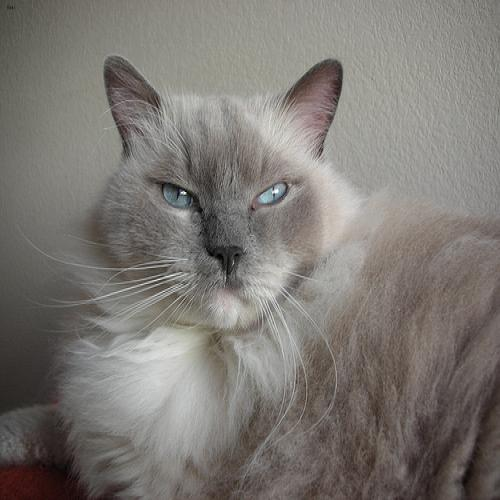ragdoll: (89, 29, 354, 353)
